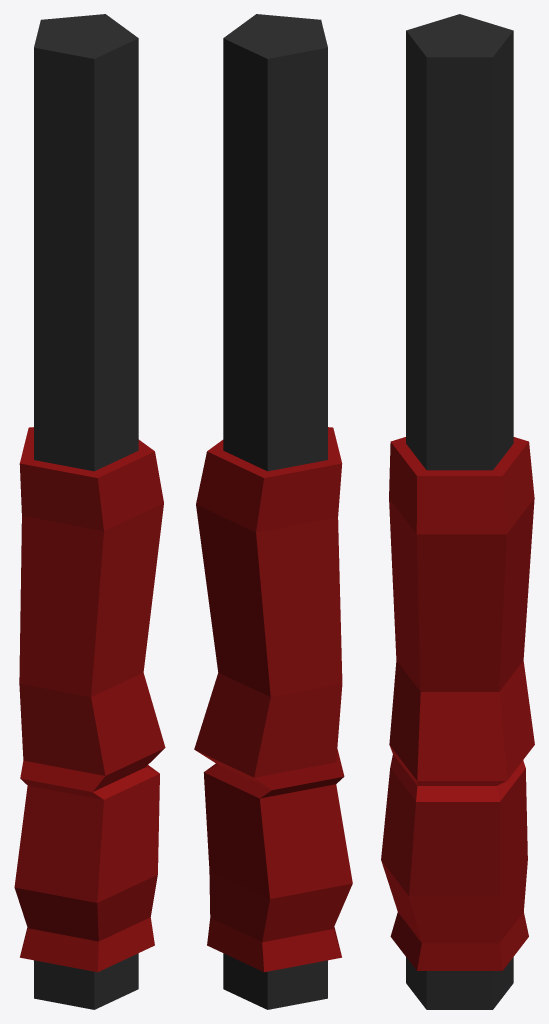
The model's file is Pipe02.dae.
3 renders of one model, left to right at view 1: azimuth 30°, elevation 25°; view 2: azimuth 150°, elevation 25°; view 3: azimuth 270°, elevation 25°, orthographic.
Parts seen in each view (by area): view 1: pCylinder43, pCylinder42; view 2: pCylinder43, pCylinder42; view 3: pCylinder43, pCylinder42.
Boxes of the visible parts, box(x1,y1,x2,y2) form: pCylinder43: box(14, 427, 165, 972); pCylinder42: box(34, 14, 138, 1009); pCylinder43: box(194, 427, 352, 972); pCylinder42: box(223, 14, 327, 1009); pCylinder43: box(381, 437, 534, 970); pCylinder42: box(406, 14, 513, 1009).
Size of the model in its own units: 0.3233 by 2.22 by 0.3249.
